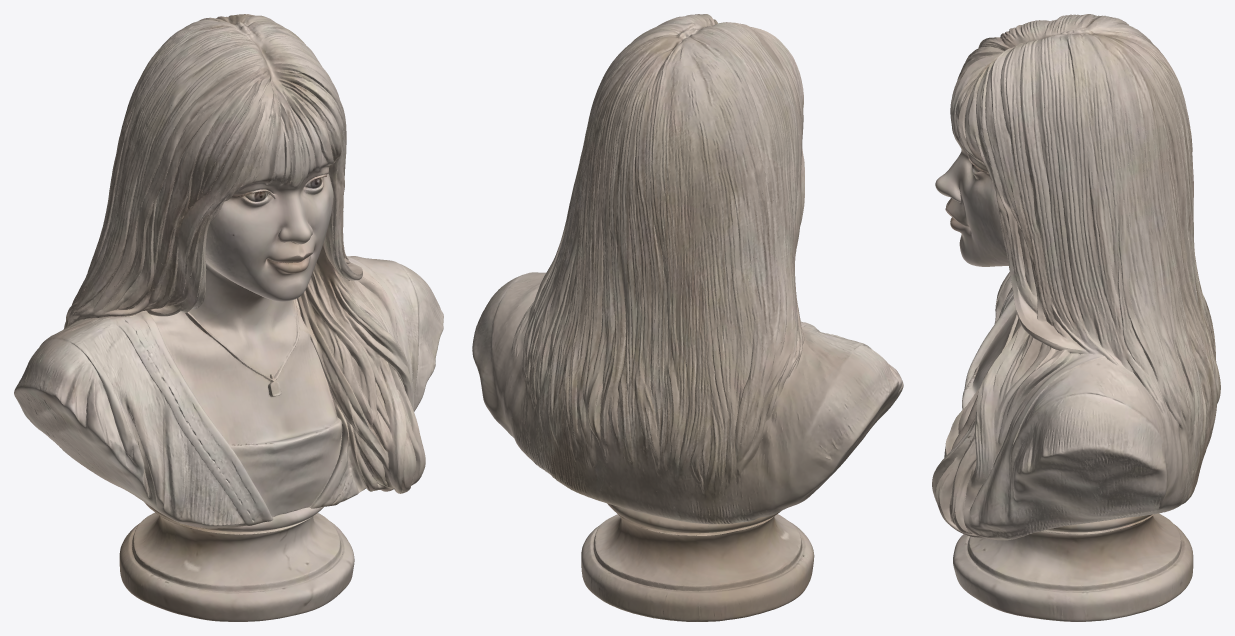
3 renders of one model, left to right at view 1: azimuth 30°, elevation 25°; view 2: azimuth 150°, elevation 25°; view 3: azimuth 270°, elevation 25°, orthographic.
Parts seen in each view (by area): view 1: model; view 2: model; view 3: model.
Part boxes in pixels (box(x1,y1,x2,y2)): model: box(14, 14, 443, 621); model: box(472, 14, 903, 621); model: box(932, 14, 1220, 621).
Bounding box in the file's own units: 1.46 × 1.9 × 0.9052.
Materials: 1 (1 with a texture image).
